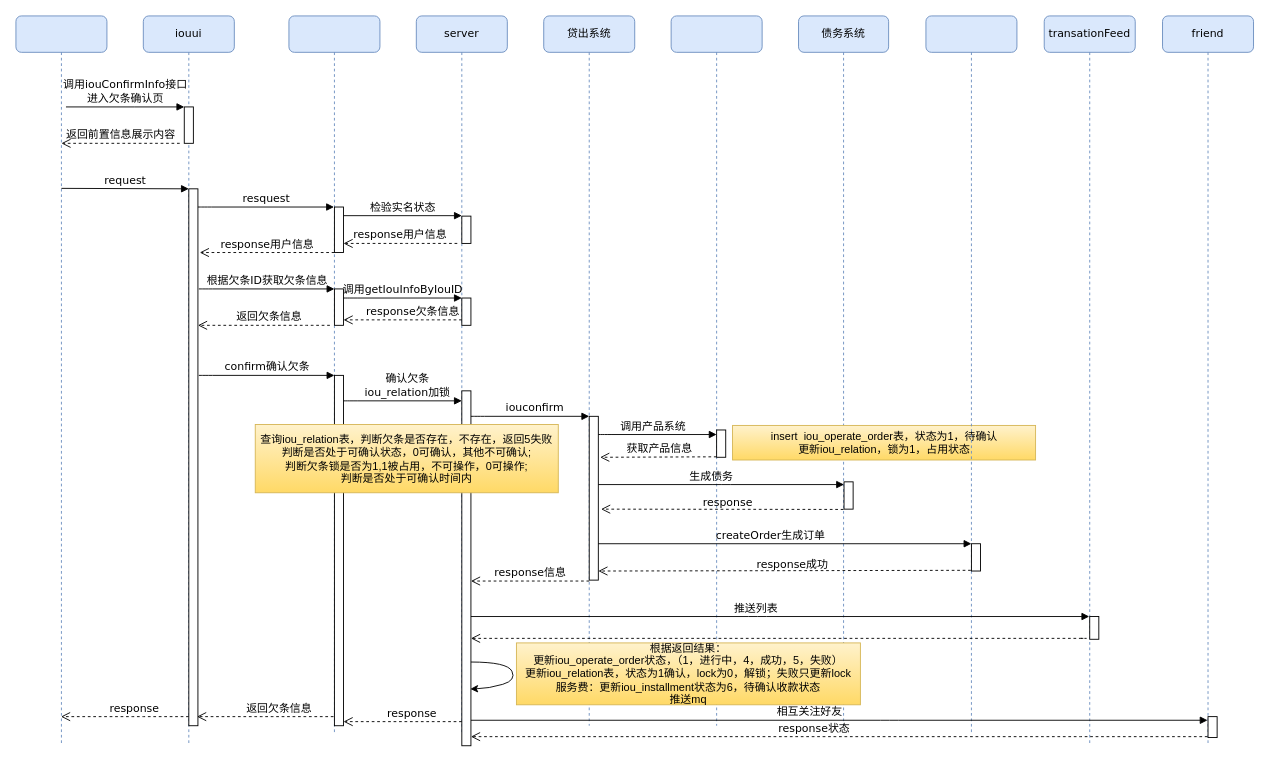
The diagram is 1269 pixels wide and 762 high, and some of its shapes have lost their labels. The shapes that lost their labels are listed below. From the top down, each one's box as (x1, y1, x2, y2) in pixels, then its label:
(15, 15, 107, 744): client
(288, 15, 380, 735): openapi
(670, 15, 762, 726): 产品系统
(925, 15, 1017, 735): 订单系统
